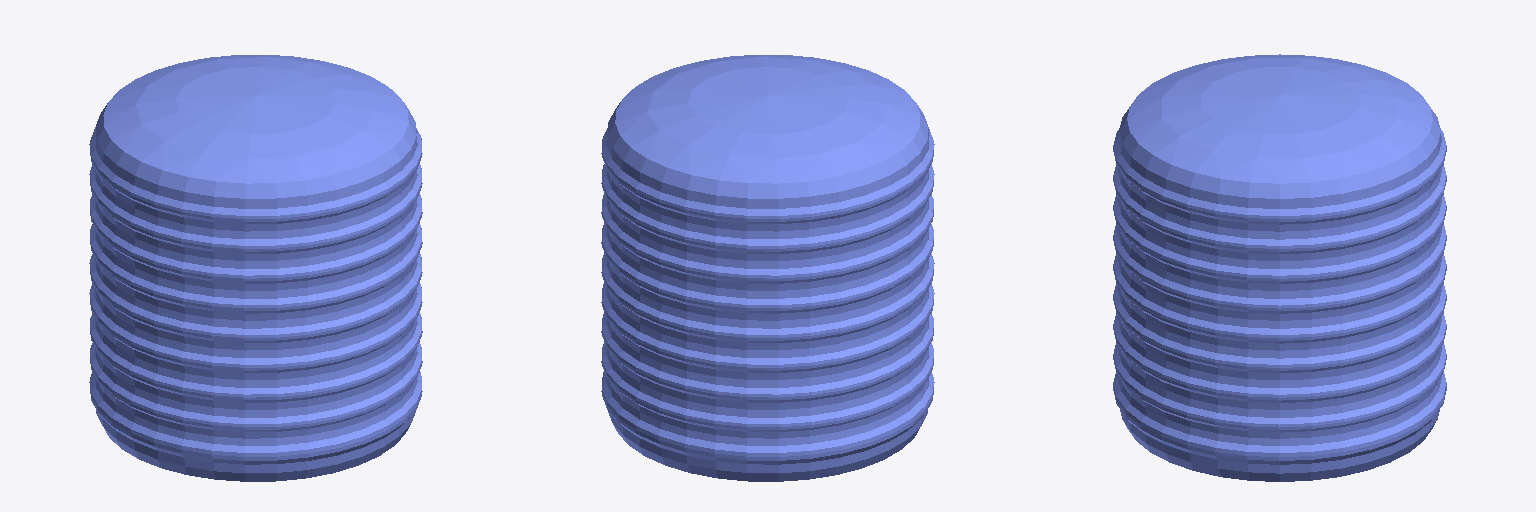
3 views of the same model, side by side, from view 1: azimuth 30°, elevation 25°; view 2: azimuth 150°, elevation 25°; view 3: azimuth 270°, elevation 25° (orthographic).
Visible parts, largest first — view 1: cylinder2; view 2: cylinder2; view 3: cylinder2.
Part boxes in pixels (left/top/right/bottom): cylinder2: left=89, top=55, right=422, bottom=481; cylinder2: left=601, top=55, right=934, bottom=481; cylinder2: left=1113, top=54, right=1446, bottom=481.
Size of the model in its own units: 2.03 by 2.16 by 2.03.